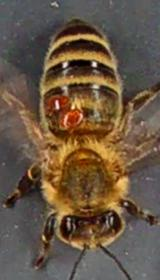varroa_mite: (48, 90, 76, 112), (59, 106, 87, 126)
